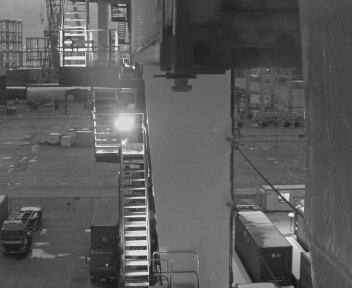twist_lock_1: (158, 66, 203, 99)
